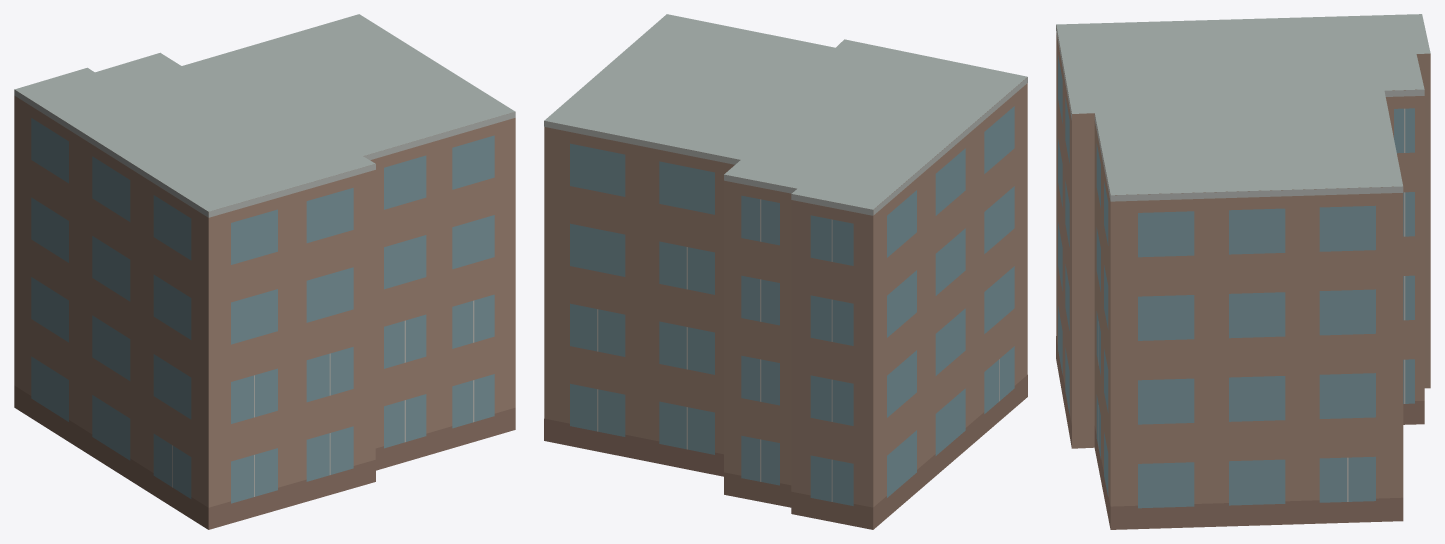
File: survey-upis-32740226.glb
The picture shows the model from 3 angles, left to right: view 1: azimuth 30°, elevation 25°; view 2: azimuth 150°, elevation 25°; view 3: azimuth 270°, elevation 25°; orthographic projection. The views are drawn at different scales.
Visible parts, largest first — view 1: survey-upis-32740226.tmp; view 2: survey-upis-32740226.tmp; view 3: survey-upis-32740226.tmp.
Boxes of the visible parts, x1,y1,x2,y2 form: survey-upis-32740226.tmp: [14, 14, 515, 529]; survey-upis-32740226.tmp: [544, 14, 1027, 529]; survey-upis-32740226.tmp: [1056, 14, 1430, 529].
Size of the model in its own units: 14.88 by 12.8 by 12.99.
